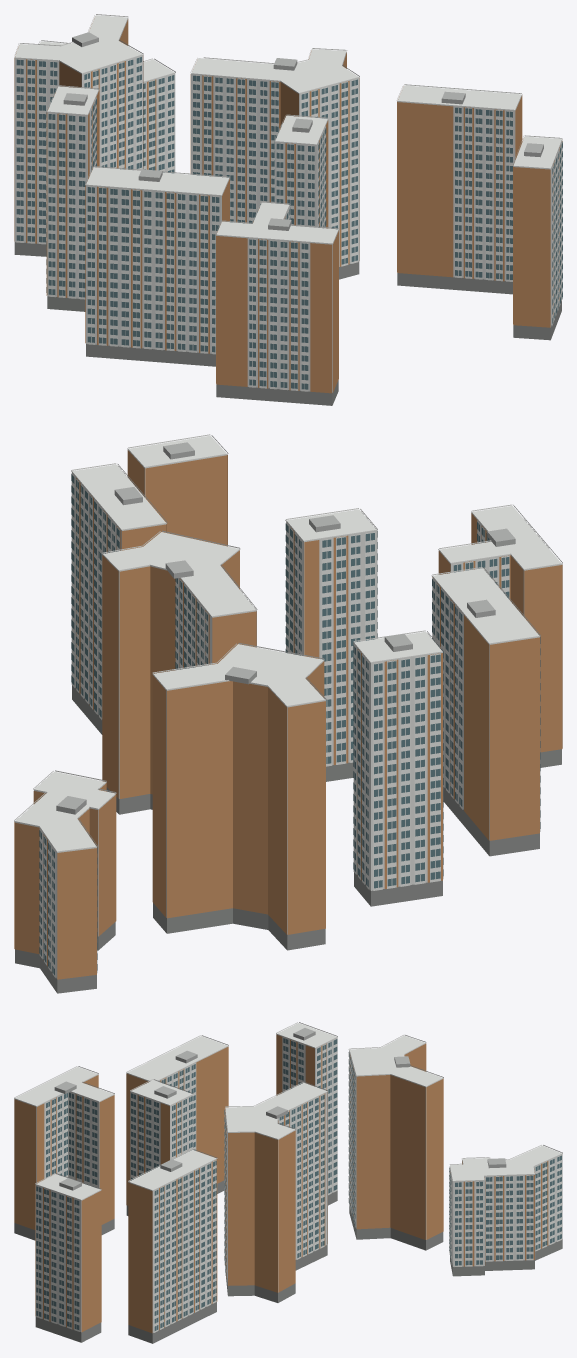
File: representative-a10028006.glb
3 renders of one model, top to bottom at view 1: azimuth 30°, elevation 25°; view 2: azimuth 150°, elevation 25°; view 3: azimuth 270°, elevation 25°, orthographic. The views are drawn at different scales.
Visible parts, largest first — view 1: A10028006_trim001, A10028006_glass001, A10028006_accent001, A10028006_wall001, A10028006_base001, A10028006_roof001; view 2: A10028006_accent001, A10028006_wall001, A10028006_trim001, A10028006_glass001, A10028006_base001, A10028006_roof001; view 3: A10028006_accent001, A10028006_wall001, A10028006_trim001, A10028006_glass001, A10028006_base001, A10028006_roof001.
Boxes of the visible parts, <box> form: A10028006_trim001: <box>14,14,562,391</box>; A10028006_glass001: <box>16,57,562,389</box>; A10028006_accent001: <box>14,18,562,393</box>; A10028006_wall001: <box>14,15,561,392</box>; A10028006_base001: <box>14,242,561,405</box>; A10028006_roof001: <box>63,32,543,230</box>; A10028006_accent001: <box>14,450,562,979</box>; A10028006_wall001: <box>15,435,561,978</box>; A10028006_trim001: <box>14,434,562,977</box>; A10028006_glass001: <box>39,474,540,975</box>; A10028006_base001: <box>15,685,561,993</box>; A10028006_roof001: <box>56,442,515,814</box>; A10028006_accent001: <box>14,1034,548,1333</box>; A10028006_wall001: <box>14,1023,562,1332</box>; A10028006_trim001: <box>14,1022,562,1332</box>; A10028006_glass001: <box>36,1038,561,1330</box>; A10028006_base001: <box>14,1180,562,1343</box>; A10028006_roof001: <box>54,1028,506,1190</box>.
Size of the model in its own units: 134 by 63.3 by 188.
